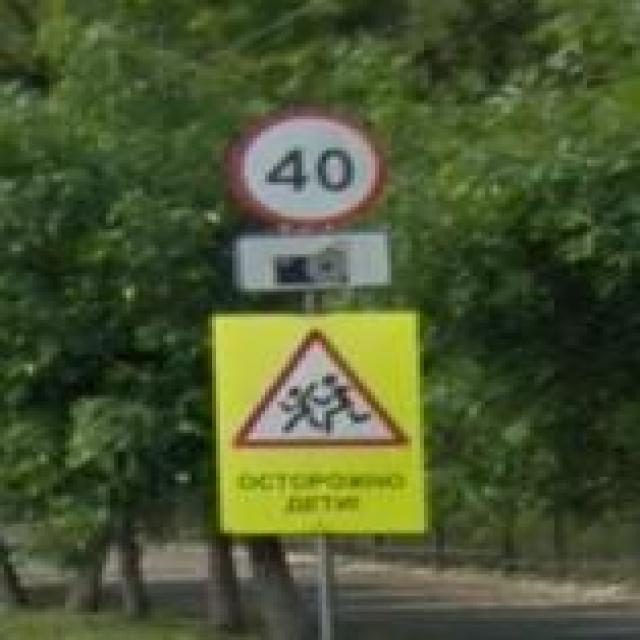traffic_sign: (228, 326, 412, 452), (228, 107, 383, 226)
